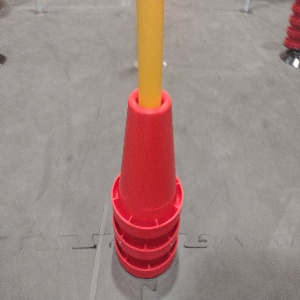Red_3: (110, 88, 183, 279)
